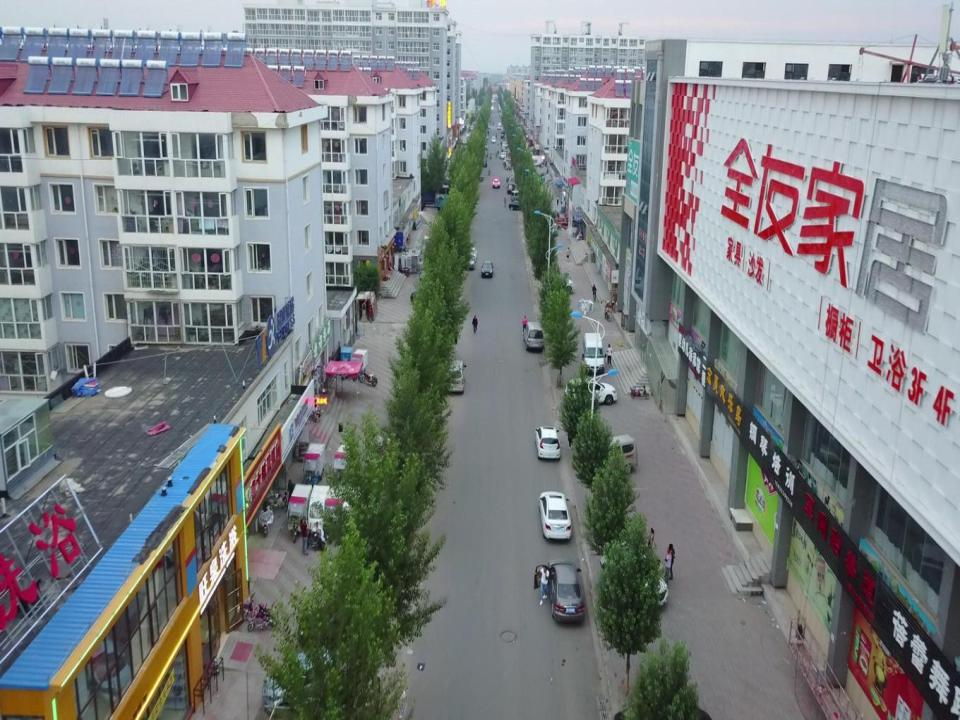car: (263, 648, 338, 714), (534, 559, 585, 621), (604, 573, 668, 607), (599, 542, 660, 570), (538, 492, 572, 540), (564, 376, 618, 406), (534, 426, 562, 459), (537, 276, 576, 294), (463, 252, 475, 270), (509, 200, 527, 211), (482, 260, 494, 276), (474, 172, 485, 181), (468, 246, 476, 258), (492, 178, 500, 188), (481, 159, 487, 167)
van: (585, 433, 638, 474), (582, 333, 606, 374), (446, 360, 466, 393), (523, 321, 544, 351), (510, 189, 520, 201)
